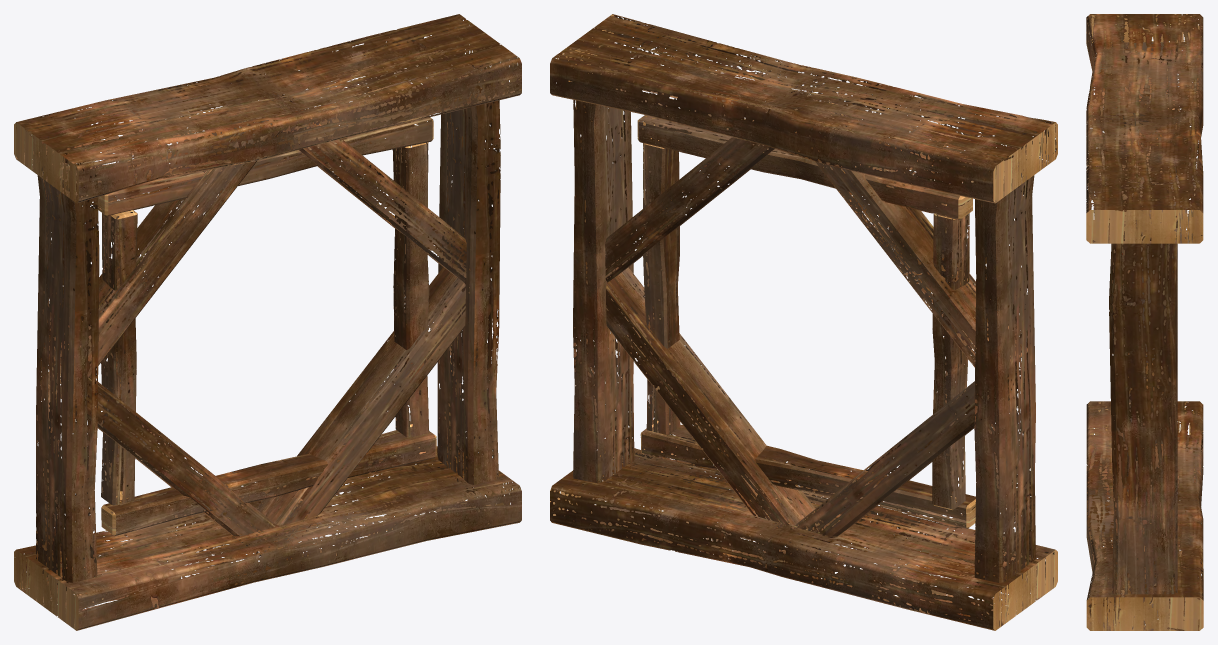
3 views of the same model, side by side, from view 1: azimuth 30°, elevation 25°; view 2: azimuth 150°, elevation 25°; view 3: azimuth 270°, elevation 25° (orthographic). The views are drawn at different scales.
Parts seen in each view (by area): view 1: SM_BB_T4_Barricade_LOD0; view 2: SM_BB_T4_Barricade_LOD0; view 3: SM_BB_T4_Barricade_LOD0.
Boxes of the visible parts, x1,y1,x2,y2 form: SM_BB_T4_Barricade_LOD0: (14, 14, 521, 630); SM_BB_T4_Barricade_LOD0: (550, 14, 1057, 630); SM_BB_T4_Barricade_LOD0: (1086, 14, 1203, 630).
Bounding box in the file's own units: 1.5 × 1.5 × 0.3786.
Materials: 1 (1 with a texture image).
